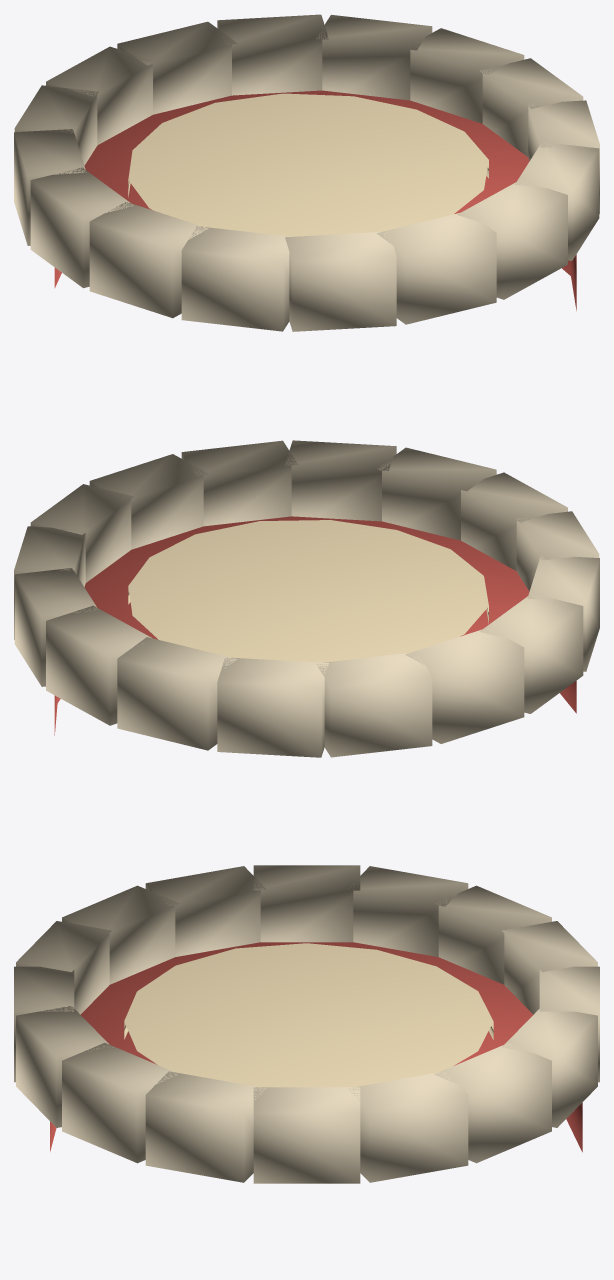
Rendered from bottle_cap.glb.
3 renders of one model, top to bottom at view 1: azimuth 30°, elevation 25°; view 2: azimuth 150°, elevation 25°; view 3: azimuth 270°, elevation 25°, orthographic.
Parts seen in each view (by area): view 1: bottle_cap; view 2: bottle_cap; view 3: bottle_cap.
Boxes of the visible parts, x1,y1,x2,y2 form: bottle_cap: [14, 14, 599, 331]; bottle_cap: [14, 440, 599, 757]; bottle_cap: [14, 865, 599, 1183].
Bounding box in the file's own units: 0.165 × 0.051 × 0.165.
